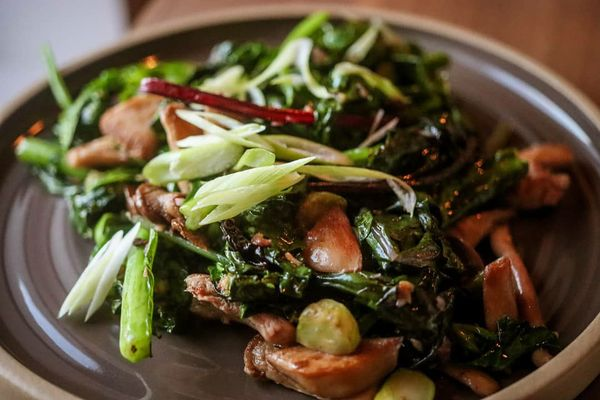sushi: (8, 2, 599, 396)
